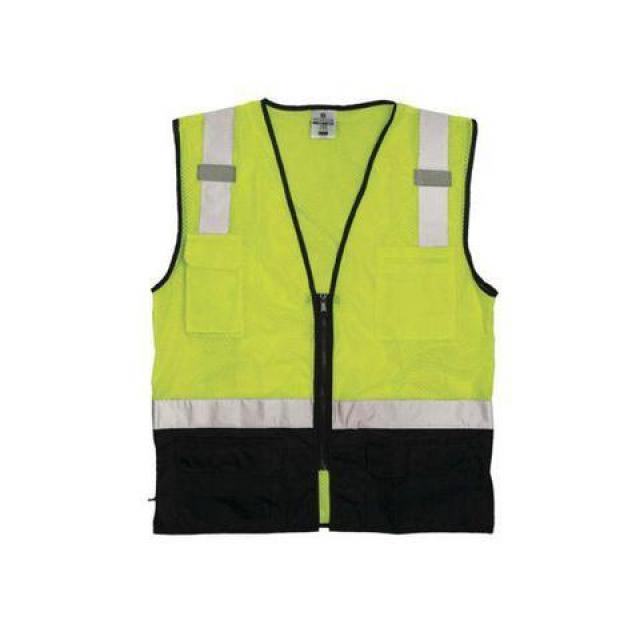Reflective-Jacket: (120, 79, 541, 536)
